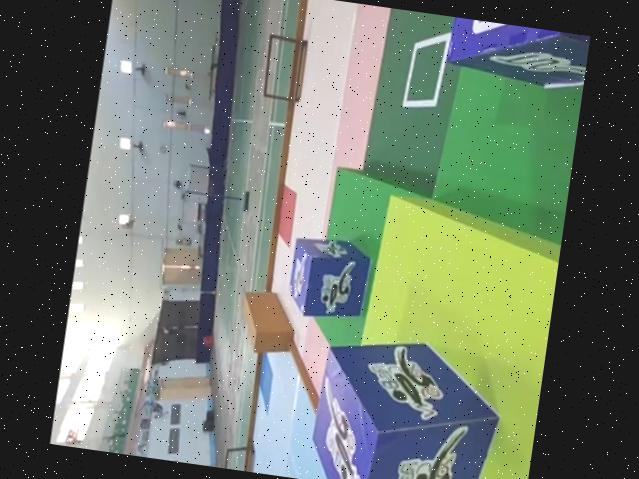R1 Blue: (306, 332, 507, 479)
R2 Fake Blue: (441, 16, 590, 91)
